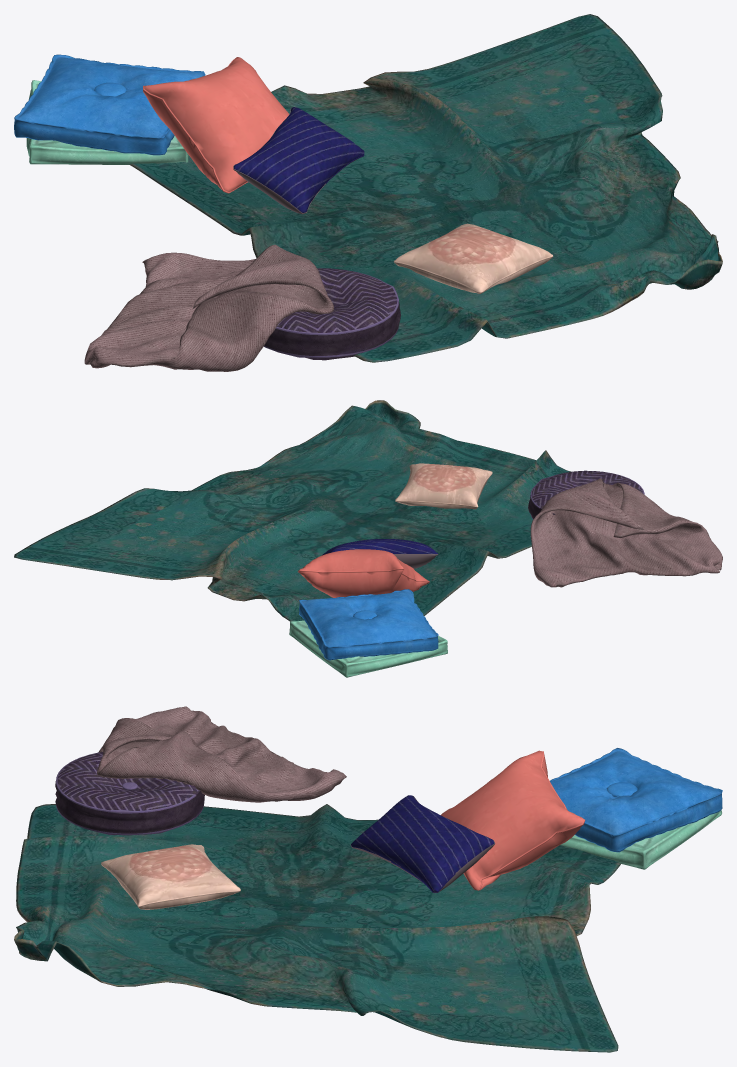
File: cosy_picnic_area.glb
The picture shows the model from 3 angles, top to bottom: view 1: azimuth 30°, elevation 25°; view 2: azimuth 150°, elevation 25°; view 3: azimuth 270°, elevation 25°; orthographic projection. The views are drawn at different scales.
Visible parts, largest first — view 1: throwblanket_M_throw_0, SM_pillow01_low_M_cushions_0; view 2: throwblanket_M_throw_0, SM_pillow01_low_M_cushions_0; view 3: throwblanket_M_throw_0, SM_pillow01_low_M_cushions_0.
Part boxes in pixels (x1,y1,x2,y2): throwblanket_M_throw_0: (129,14,722,362); SM_pillow01_low_M_cushions_0: (14,54,553,371); throwblanket_M_throw_0: (14,400,571,621); SM_pillow01_low_M_cushions_0: (289,463,722,677); throwblanket_M_throw_0: (14,804,620,1052); SM_pillow01_low_M_cushions_0: (55,706,722,909).
Bounding box in the file's own units: 2.85 × 0.328 × 2.48.
Materials: 2 (2 with a texture image).
